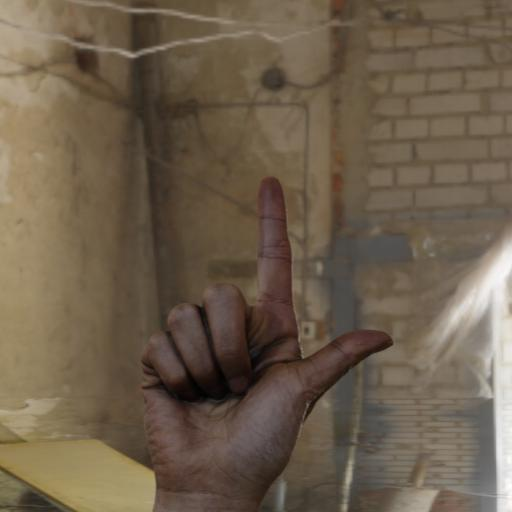L: (124, 162, 392, 512)
